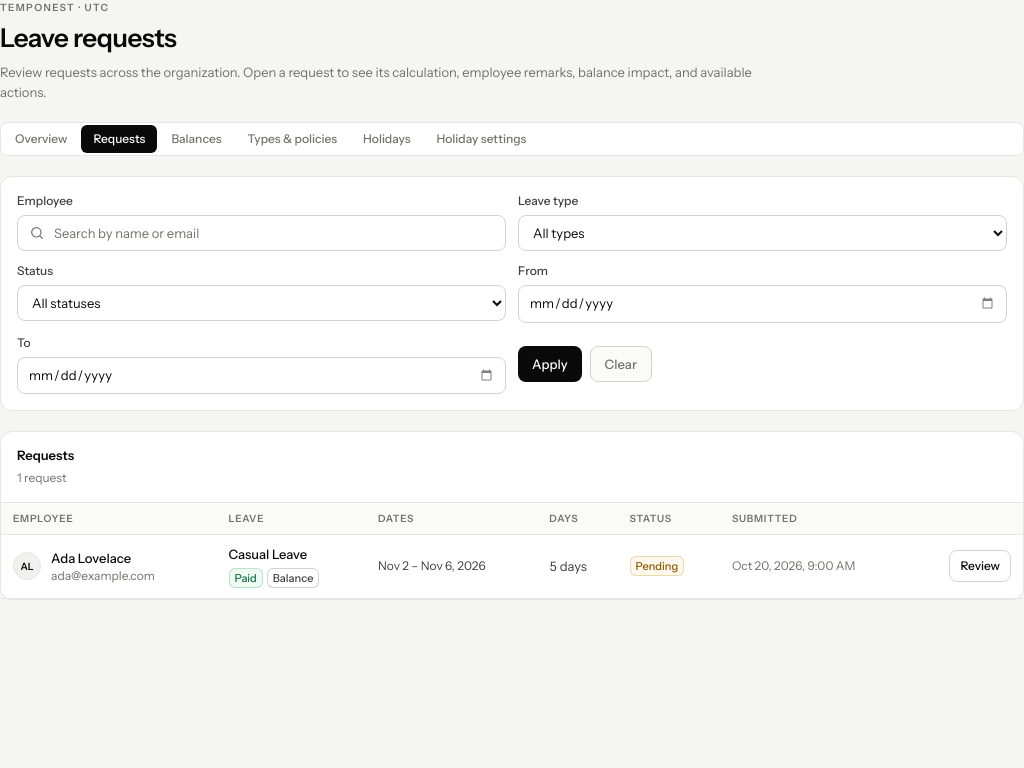
Test: LeaveRequestsView › blocks self-approval and self-rejection
Expected: the table is shown, [1,502,1023,599]
Click the button "Review".
click(980, 566)  # box [950,550,1011,582]
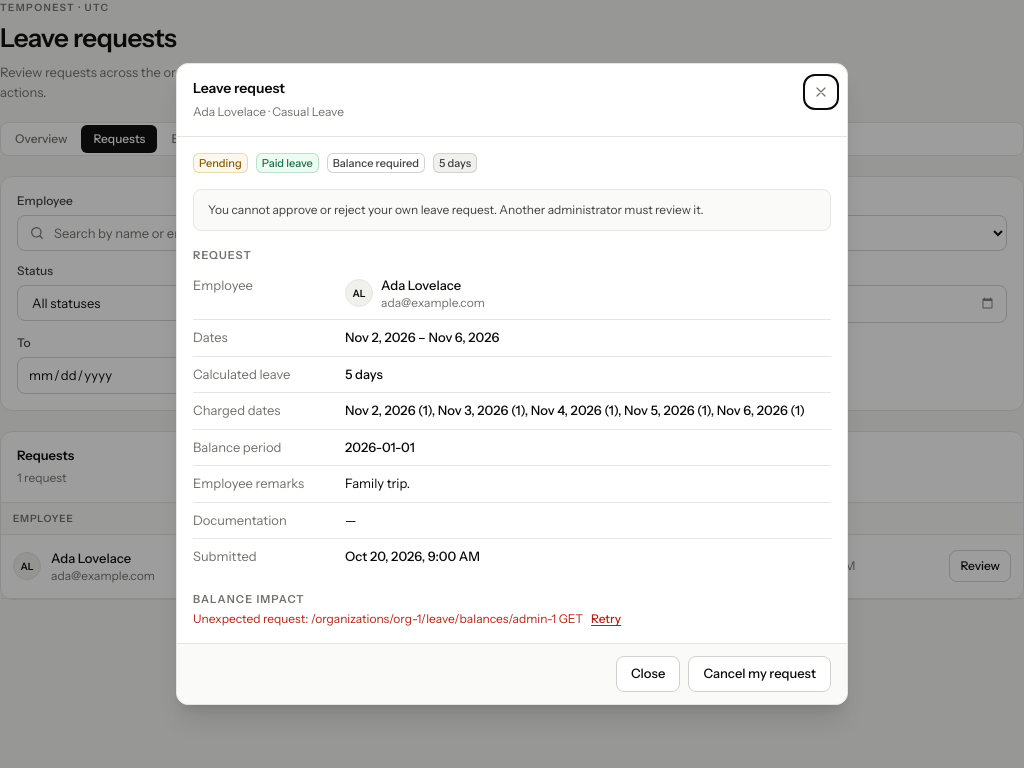
Result: the heading "Leave request" is shown at [193,79,285,97]
Result: the text "You cannot approve or reject your own leave request. Another administrator must review it." is shown at [208,202,704,217]
